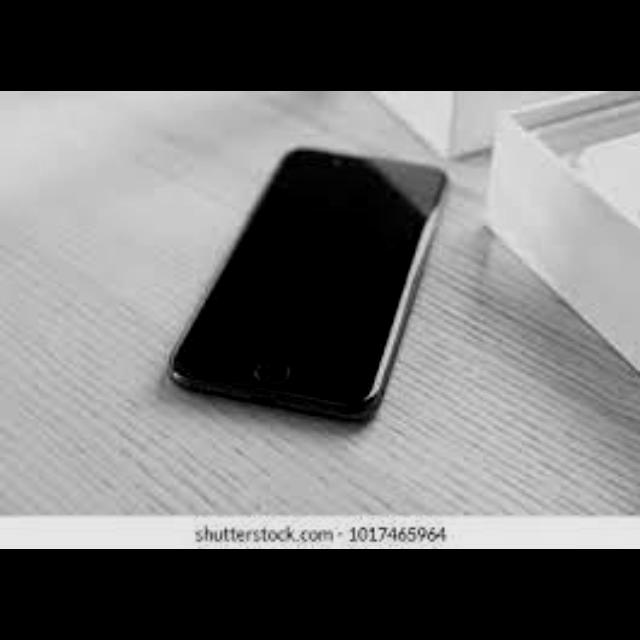fake: (174, 144, 429, 422)
